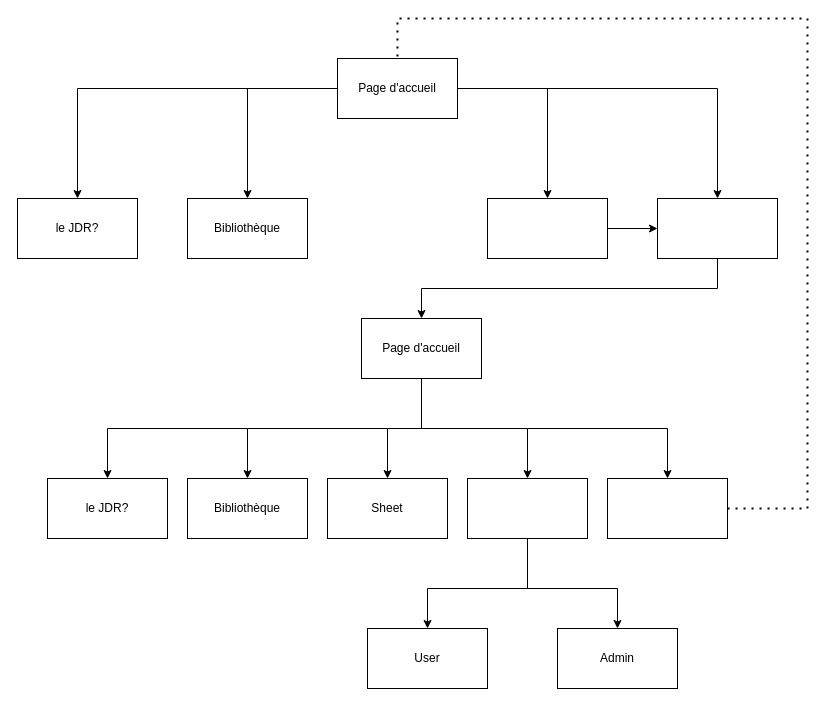
Image size: 827x706. Some labels were removed from this diagram. The box of each missing label's shape, as (x1, y1, x2, y2) in pixels:
LOGIN: (656, 198, 778, 258)
Logout: (606, 478, 728, 538)
Profil: (466, 478, 588, 538)
REGISTER: (486, 198, 608, 258)
